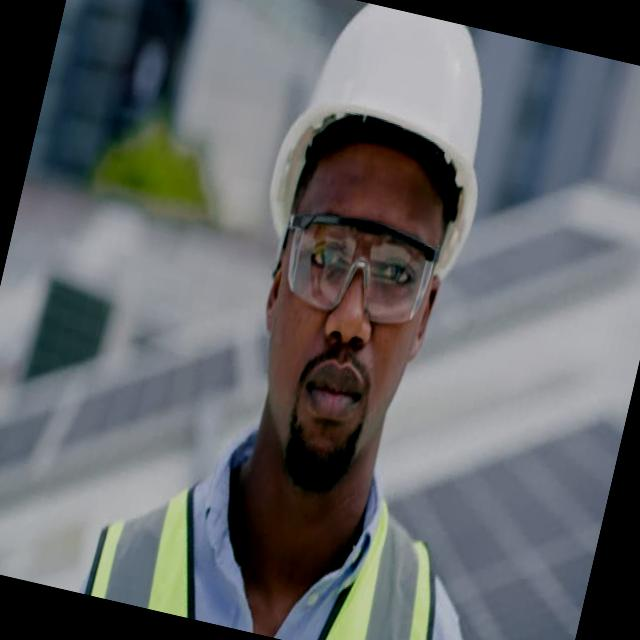goggles: (262, 192, 449, 337)
helmet: (255, 0, 521, 273)
vest: (80, 427, 465, 640)
